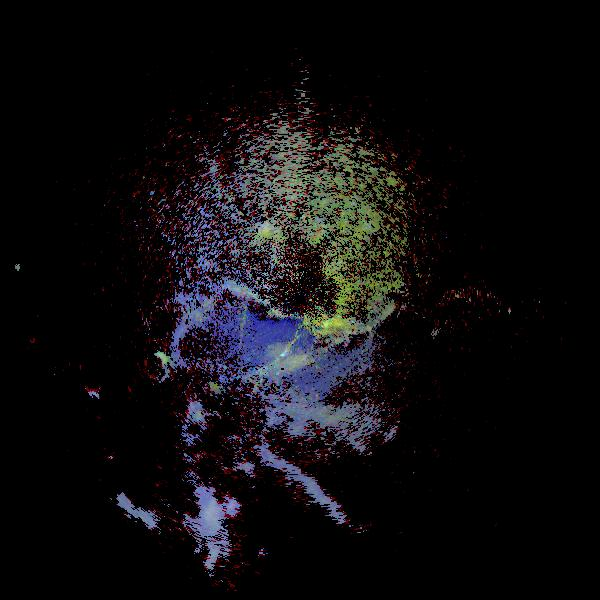roost: (134, 342, 185, 393)
